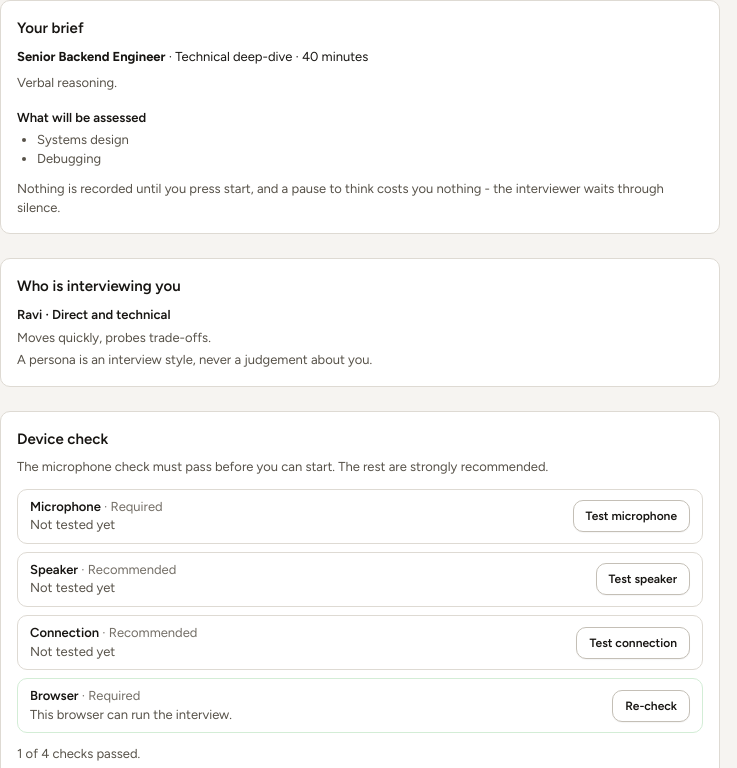
Test case: the gate › a failed microphone blocks by name and offers recovery
The image size is (737, 768).
Click the button "Test microphone" at (631, 516), box [573,500,690,532]
(page scrolled)
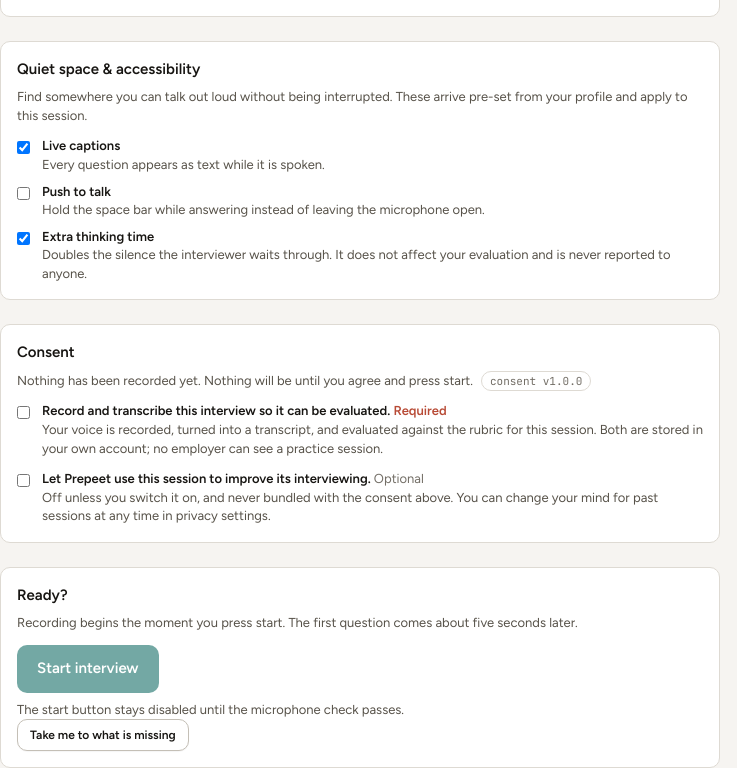
expect the button "Start interview" is disabled: met, box [17,645,159,693]
expect the text "until the microphone check passes" is shown: met, box [17,702,404,717]
